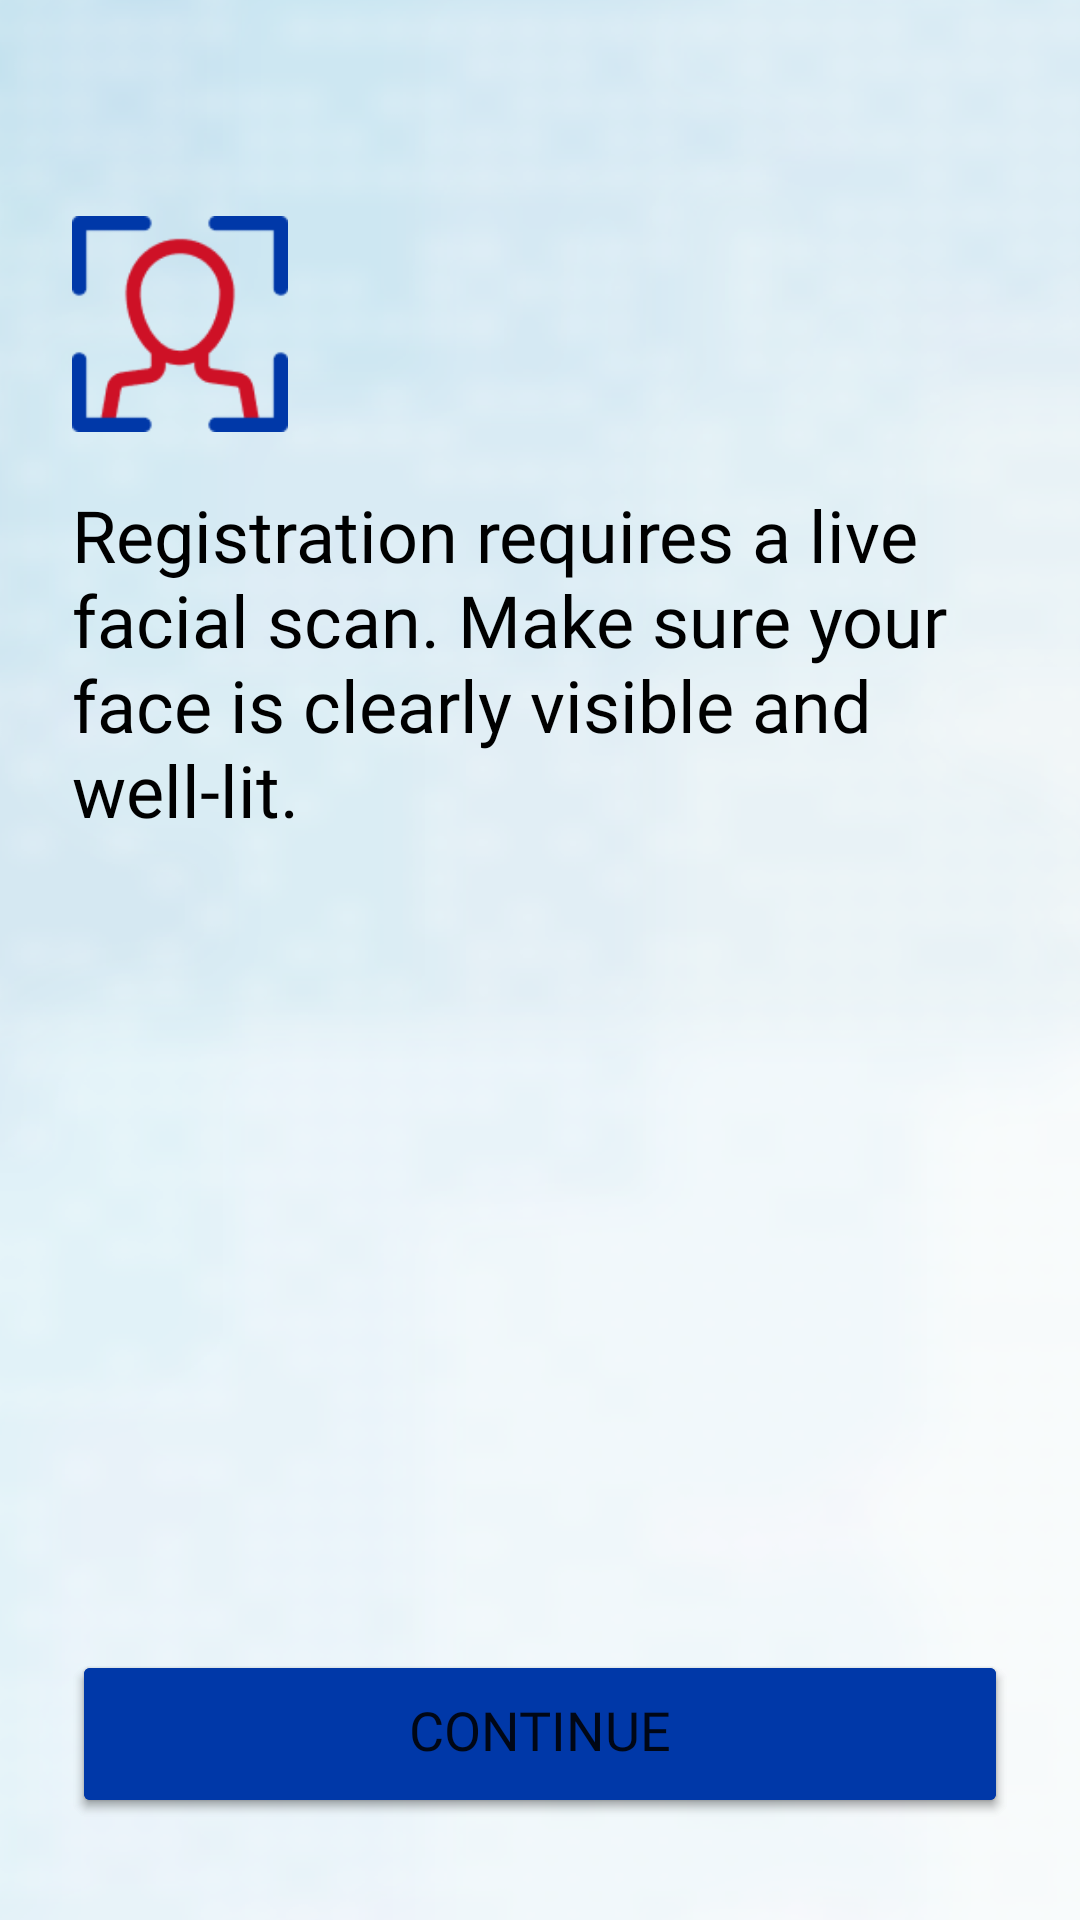

Icons on this 1080 × 1920 Android screen, each with the point to tap as [x,y]:
facialscanicon: [180,324]
